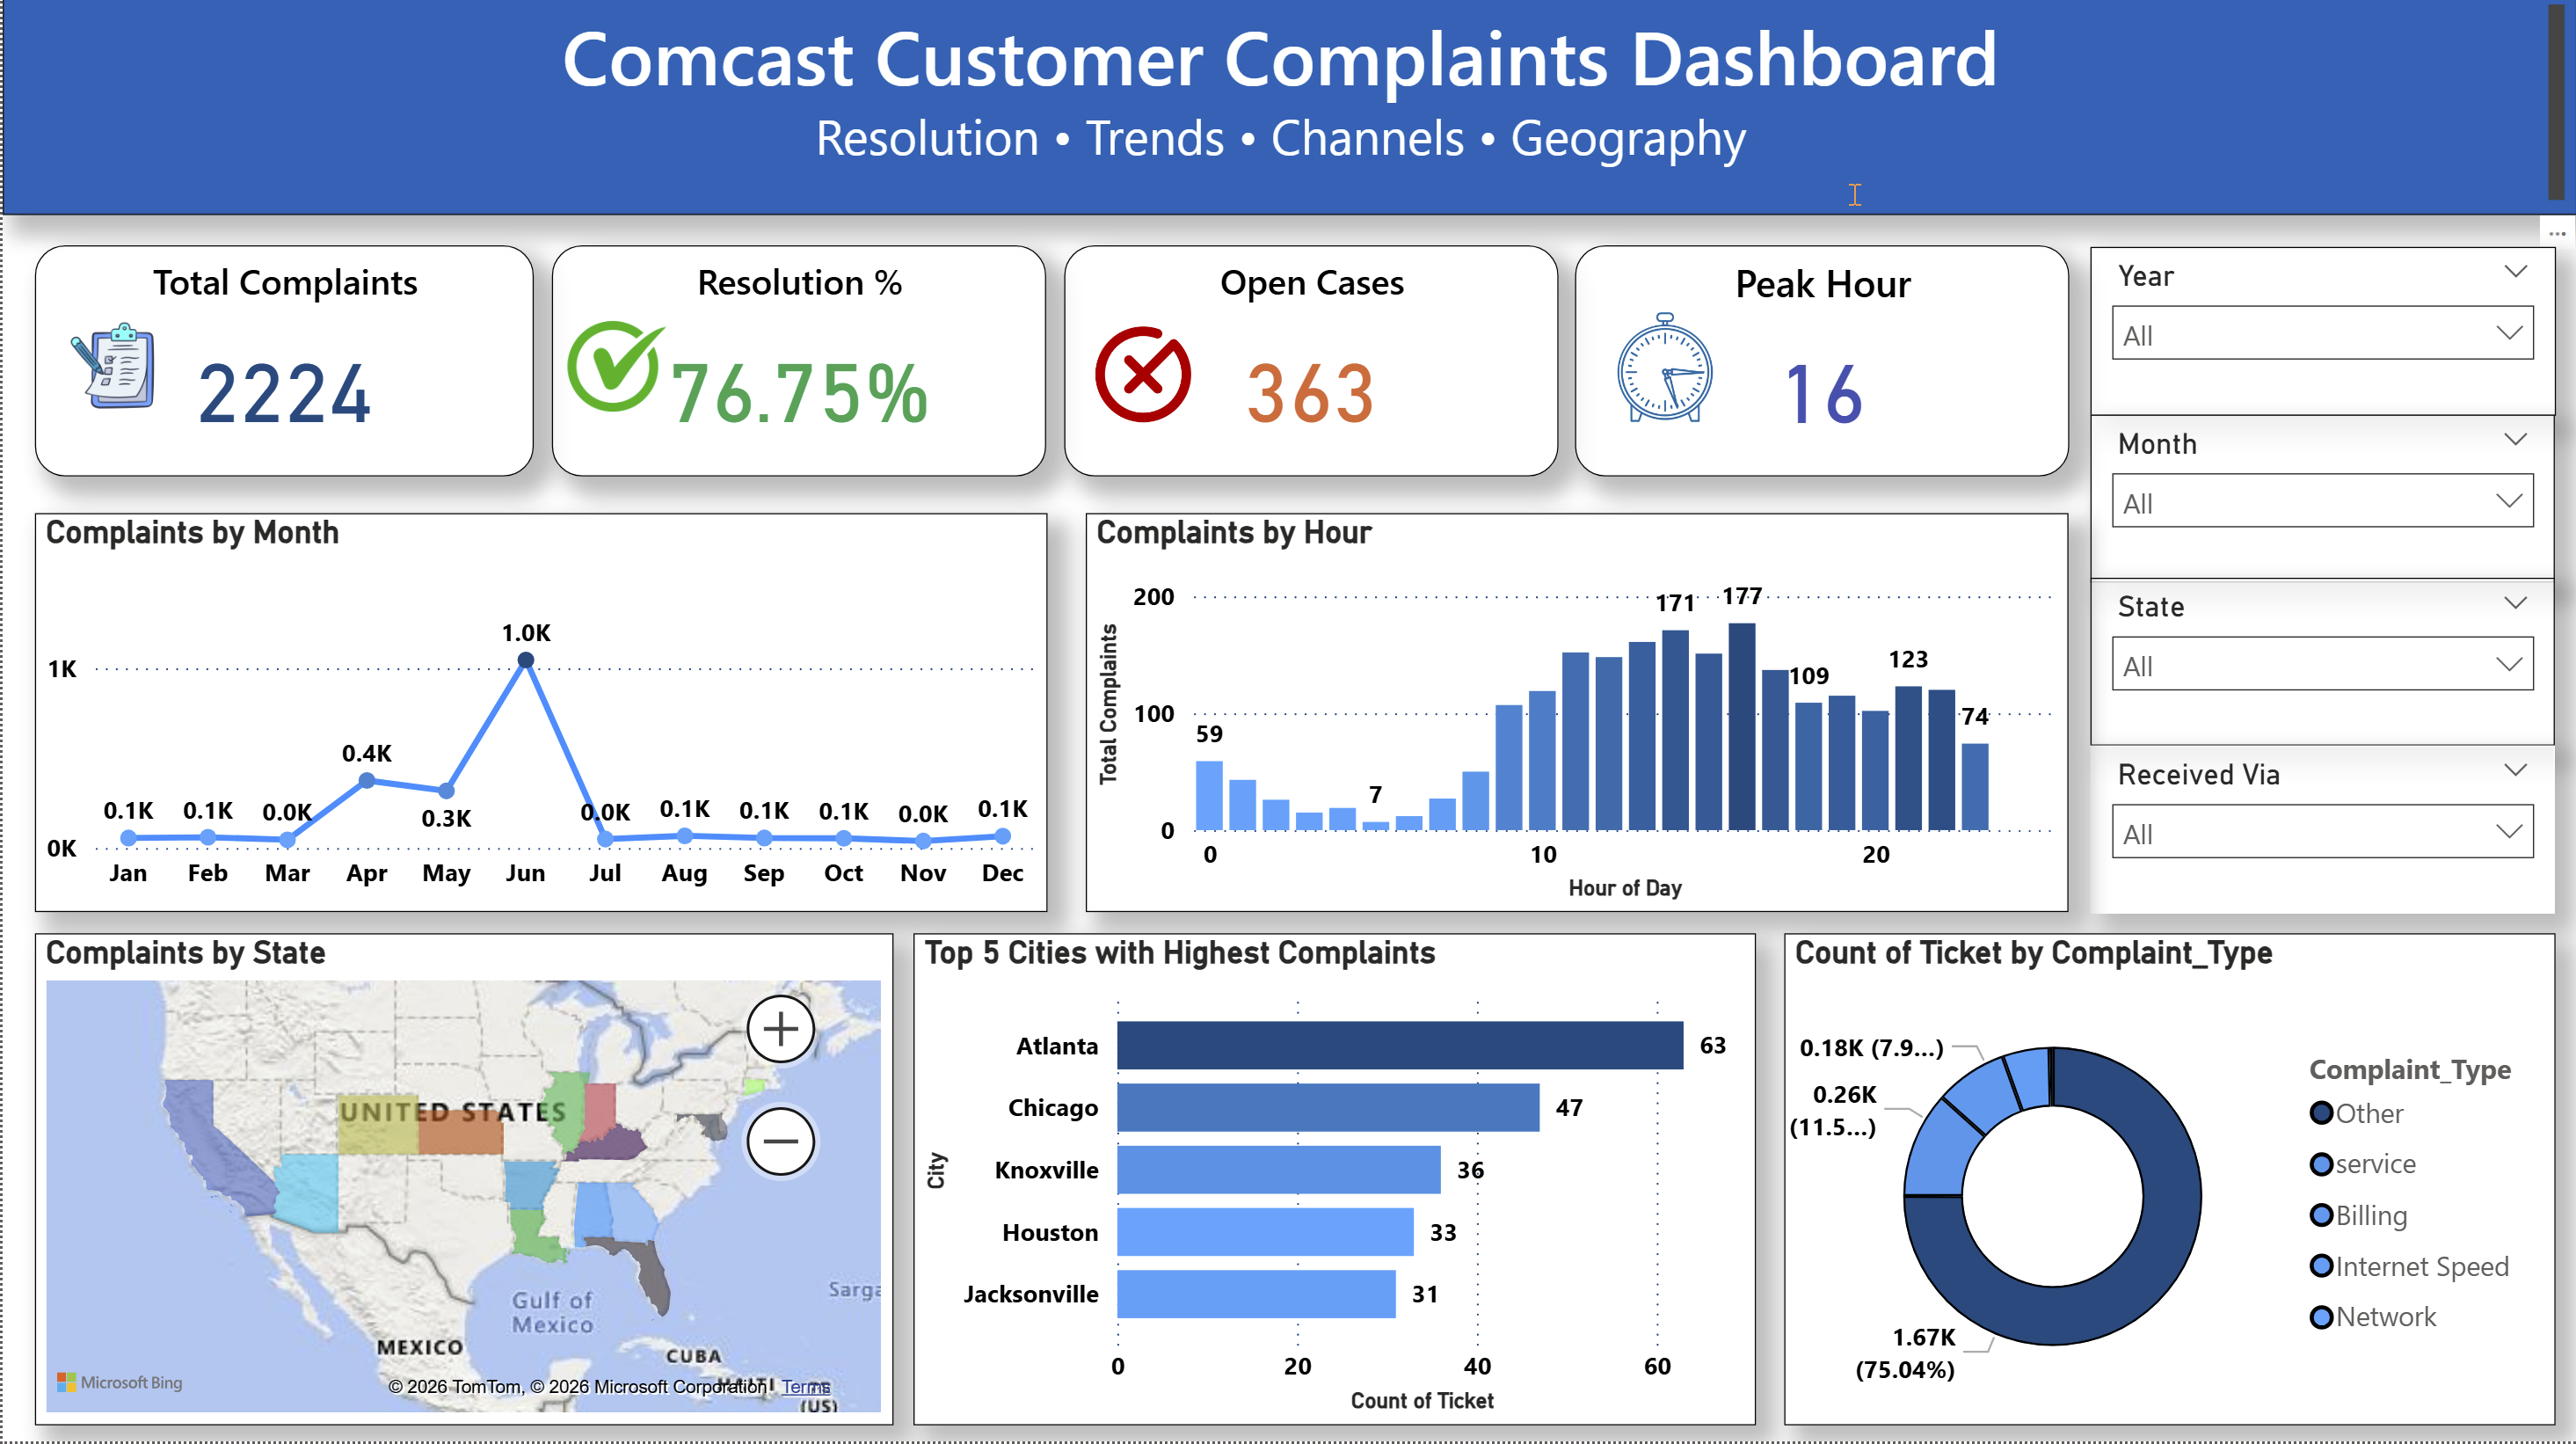

The page's visual inventory and layout, read from the dashboard file:
{"tool":"powerbi","page":{"name":"Page 1","canvas":[1280,720],"ordinal":0},"visuals":[{"type":"textbox","box":[0,0,1280,110.1],"z":0},{"type":"card","title":"Total Complaints","fields":{"Values":["Comcast.Total Complaints"]},"box":[15.7,125.8,248,114.9],"z":1000},{"type":"card","title":"Resolution %","fields":{"Values":["Comcast.Resolution %"]},"box":[273.4,125.8,245.6,114.9],"z":2000},{"type":"card","title":"Open Cases","fields":{"Values":["Comcast.Open Cases"]},"box":[527.5,125.8,245.6,114.9],"z":3000},{"type":"card","title":"Peak Hour","fields":{"Values":["Comcast.Peak Hour"]},"box":[781.6,125.8,245.6,114.9],"z":4000},{"type":"slicer","fields":{"Values":["Comcast.Date.Variation.Date Hierarchy.Year"]},"box":[1038.3,126.4,231.3,84.3],"z":5000},{"type":"slicer","fields":{"Values":["Comcast.Date.Variation.Date Hierarchy.Month"]},"box":[1038,209.3,231.1,83.5],"z":6000},{"type":"slicer","fields":{"Values":["Comcast.State"]},"box":[1038,290.4,231.1,83.5],"z":7000},{"type":"slicer","fields":{"Values":["Comcast.Received Via"]},"box":[1038,373.8,231.1,83.5],"z":8000},{"type":"clusteredColumnChart","title":"Complaints by Hour","fields":{"Category":["Comcast.Hour"],"Y":["CountNonNull(Comcast.Ticket)"]},"box":[538.4,258.9,488.8,198.4],"z":9000},{"type":"lineChart","title":"Complaints by Month","fields":{"Category":["Comcast.Month Name1"],"Y":["CountNonNull(Comcast.Ticket)"]},"box":[15.7,258.9,503.3,198.4],"z":10000},{"type":"filledMap","title":"Complaints by State","fields":{"Category":["Comcast.State"],"Series":["Comcast.Ticket"]},"box":[15.7,467,427.1,244.4],"z":11000},{"type":"barChart","title":"Top 5 Cities with Highest Complaints","fields":{"Y":["CountNonNull(Comcast.Ticket)"],"Category":["Comcast.City"]},"box":[452.5,467,418.6,244.4],"z":12000},{"type":"donutChart","fields":{"Category":["Comcast.Complaint_Type"],"Y":["CountNonNull(Comcast.Ticket)"]},"box":[885.6,467,383.5,244.4],"z":13000},{"type":"image","box":[24.3,160.1,59.9,50.6],"z":14000},{"type":"image","box":[278.1,160.1,53.4,51.5],"z":15000},{"type":"image","box":[538.3,160.1,57.1,59.9],"z":16000},{"type":"image","box":[782.7,154.5,88,62.7],"z":17000}]}

Visuals, with their boxes in screenshot pixels (x1, y1, x2, y2), scaled from the page's 1280x720 canvas onto the 2576x1444 screenshot:
textbox: {"x1": 0, "y1": 0, "x2": 2575, "y2": 221}
"Total Complaints" card: {"x1": 32, "y1": 252, "x2": 531, "y2": 483}
"Resolution %" card: {"x1": 550, "y1": 252, "x2": 1044, "y2": 483}
"Open Cases" card: {"x1": 1061, "y1": 252, "x2": 1556, "y2": 483}
"Peak Hour" card: {"x1": 1573, "y1": 252, "x2": 2067, "y2": 483}
slicer - Comcast.Date.Variation.Date Hierarchy.Year: {"x1": 2090, "y1": 253, "x2": 2555, "y2": 423}
slicer - Comcast.Date.Variation.Date Hierarchy.Month: {"x1": 2089, "y1": 419, "x2": 2554, "y2": 587}
slicer - Comcast.State: {"x1": 2089, "y1": 582, "x2": 2554, "y2": 750}
slicer - Comcast.Received Via: {"x1": 2089, "y1": 749, "x2": 2554, "y2": 917}
"Complaints by Hour" clusteredColumnChart: {"x1": 1083, "y1": 519, "x2": 2067, "y2": 917}
"Complaints by Month" lineChart: {"x1": 32, "y1": 519, "x2": 1044, "y2": 917}
"Complaints by State" filledMap: {"x1": 32, "y1": 937, "x2": 891, "y2": 1426}
"Top 5 Cities with Highest Complaints" barChart: {"x1": 911, "y1": 937, "x2": 1753, "y2": 1426}
donutChart - Comcast.Complaint_Type x CountNonNull(Comcast.Ticket): {"x1": 1782, "y1": 937, "x2": 2554, "y2": 1426}
image: {"x1": 49, "y1": 321, "x2": 170, "y2": 423}
image: {"x1": 560, "y1": 321, "x2": 667, "y2": 425}
image: {"x1": 1083, "y1": 321, "x2": 1198, "y2": 441}
image: {"x1": 1575, "y1": 310, "x2": 1752, "y2": 435}
